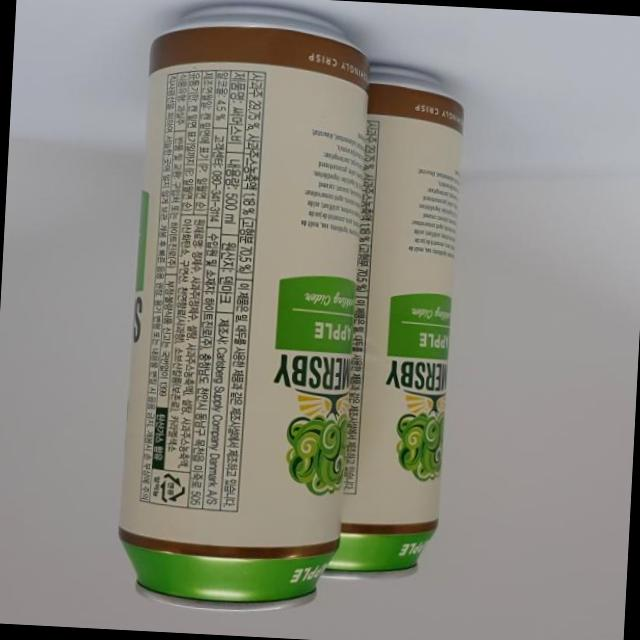can: (113, 0, 374, 621), (322, 60, 469, 589)
